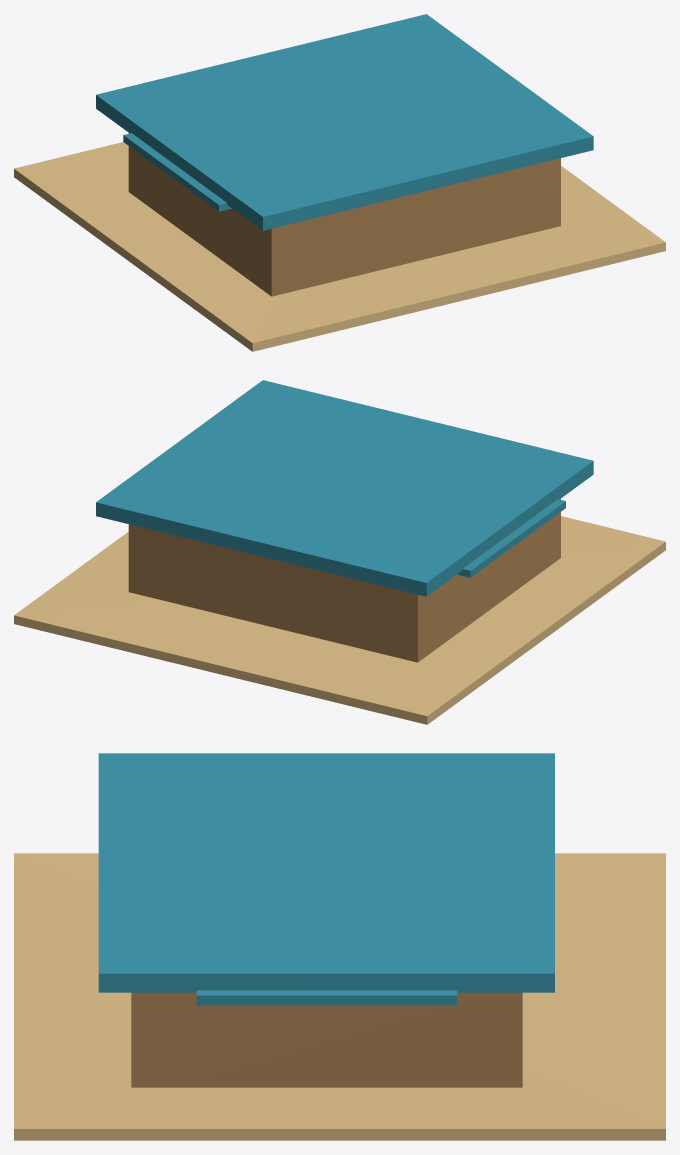
Rendered from solar-array.source.glb.
3 views of the same model, one above another, from view 1: azimuth 30°, elevation 25°; view 2: azimuth 150°, elevation 25°; view 3: azimuth 270°, elevation 25° (orthographic). The views are drawn at different scales.
Visible parts, largest first — view 1: solar-array-roof-mesh, solar-array-base-mesh, solar-array-body-mesh, solar-array-panel-1.5-mesh; view 2: solar-array-roof-mesh, solar-array-base-mesh, solar-array-body-mesh, solar-array-panel-1.5-mesh; view 3: solar-array-roof-mesh, solar-array-base-mesh, solar-array-body-mesh, solar-array-panel1.5-mesh.
Part boxes in pixels (box(x1,y1,x2,y2)): solar-array-roof-mesh: box(96, 14, 593, 230); solar-array-base-mesh: box(14, 142, 665, 351); solar-array-body-mesh: box(128, 133, 560, 296); solar-array-panel-1.5-mesh: box(123, 133, 231, 211); solar-array-roof-mesh: box(96, 380, 593, 596); solar-array-base-mesh: box(14, 516, 665, 724); solar-array-body-mesh: box(128, 499, 560, 662); solar-array-panel-1.5-mesh: box(457, 499, 565, 577); solar-array-roof-mesh: box(98, 753, 554, 992); solar-array-base-mesh: box(14, 853, 665, 1140); solar-array-body-mesh: box(131, 992, 522, 1087); solar-array-panel1.5-mesh: box(196, 990, 457, 1005).
Bounding box in the file's own units: 5 × 1.18 × 5.
